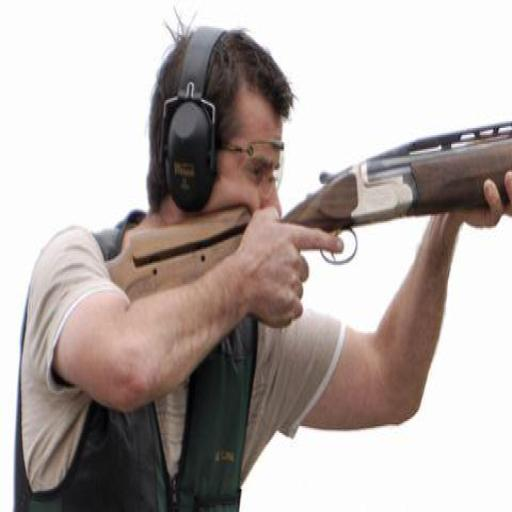shooting: (12, 12, 511, 510)
